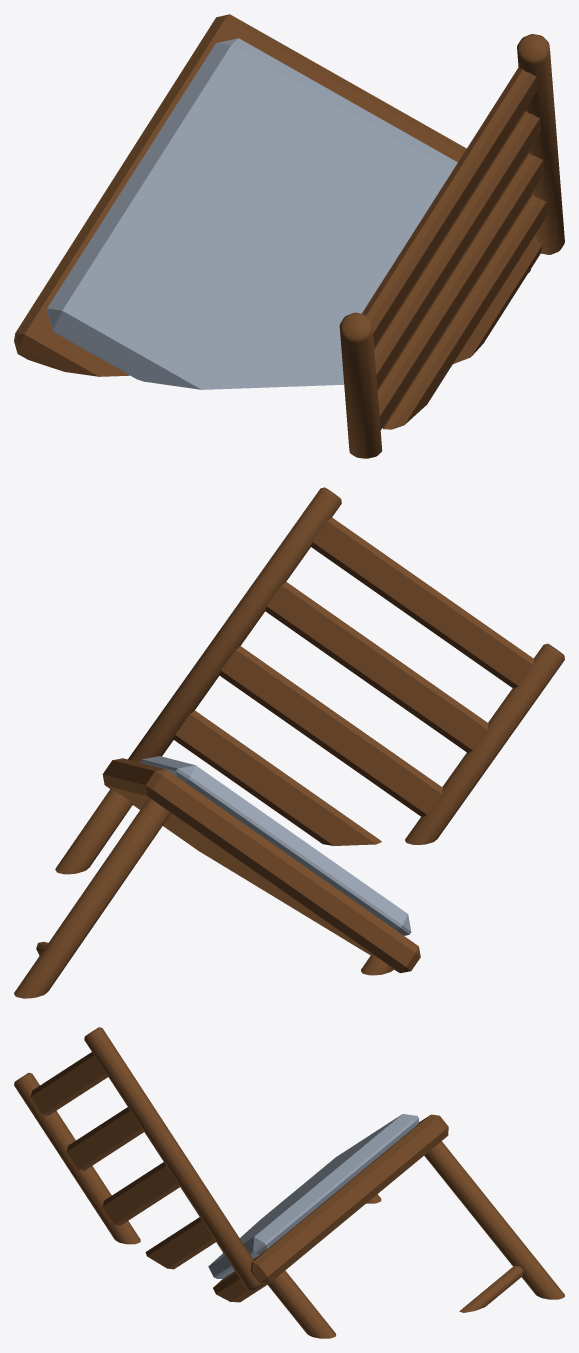
Rendered from noclipped_wood_chair.obj.
3 views of the same model, one above another, from view 1: azimuth 30°, elevation 25°; view 2: azimuth 150°, elevation 25°; view 3: azimuth 270°, elevation 25° (orthographic). The views are drawn at different scales.
Visible parts, largest first — view 1: Single_Cushion, Single_SeatFrame, Single_Slat_3, Single_Slat_1, Single_Slat_2, Single_Slat_0, Single_Post_0.21, Single_Post_-0.21; view 2: Single_SeatFrame, Single_Slat_1, Single_Slat_3, Single_Slat_2, Single_Post_0.21, Single_Slat_0, Single_Leg_0.21_0.2, Single_Cushion, Single_Post_-0.21, Single_Leg_0.21_-0.2; view 3: Single_SeatFrame, Single_Post_0.21, Single_Cushion, Single_Leg_0.21_0.2, Single_Post_-0.21, Single_Slat_2, Single_Slat_1, Single_Slat_3, Single_Slat_0, Single_Leg_0.21_-0.2, Single_SideBar_0.21.
Part boxes in pixels (bbox=[...]): Single_Cushion: bbox=[46, 38, 457, 389]; Single_SeatFrame: bbox=[14, 14, 542, 376]; Single_Slat_3: bbox=[362, 67, 537, 346]; Single_Slat_1: bbox=[377, 152, 544, 430]; Single_Slat_2: bbox=[374, 110, 541, 388]; Single_Slat_0: bbox=[382, 194, 547, 429]; Single_Post_0.21: bbox=[517, 34, 564, 254]; Single_Post_-0.21: bbox=[339, 312, 382, 458]; Single_SeatFrame: bbox=[102, 758, 420, 973]; Single_Slat_1: bbox=[219, 646, 442, 817]; Single_Slat_3: bbox=[311, 517, 534, 688]; Single_Slat_2: bbox=[265, 582, 488, 752]; Single_Post_0.21: bbox=[128, 487, 341, 762]; Single_Slat_0: bbox=[173, 710, 381, 845]; Single_Leg_0.21_0.2: bbox=[14, 798, 170, 998]; Single_Cushion: bbox=[140, 756, 411, 935]; Single_Post_-0.21: bbox=[405, 643, 564, 844]; Single_Leg_0.21_-0.2: bbox=[55, 788, 132, 874]; Single_SeatFrame: bbox=[213, 1114, 448, 1302]; Single_Post_0.21: bbox=[84, 1027, 262, 1291]; Single_Cushion: bbox=[208, 1114, 418, 1278]; Single_Leg_0.21_0.2: bbox=[424, 1141, 564, 1299]; Single_Post_-0.21: bbox=[14, 1072, 140, 1244]; Single_Slat_2: bbox=[66, 1107, 143, 1170]; Single_Slat_1: bbox=[102, 1162, 179, 1225]; Single_Slat_3: bbox=[30, 1052, 107, 1115]; Single_Slat_0: bbox=[145, 1217, 215, 1269]; Single_Leg_0.21_-0.2: bbox=[268, 1270, 336, 1338]; Single_SideBar_0.21: bbox=[459, 1265, 523, 1312].
Bounding box in the file's own units: 0.6705 × 0.5212 × 1.01.
